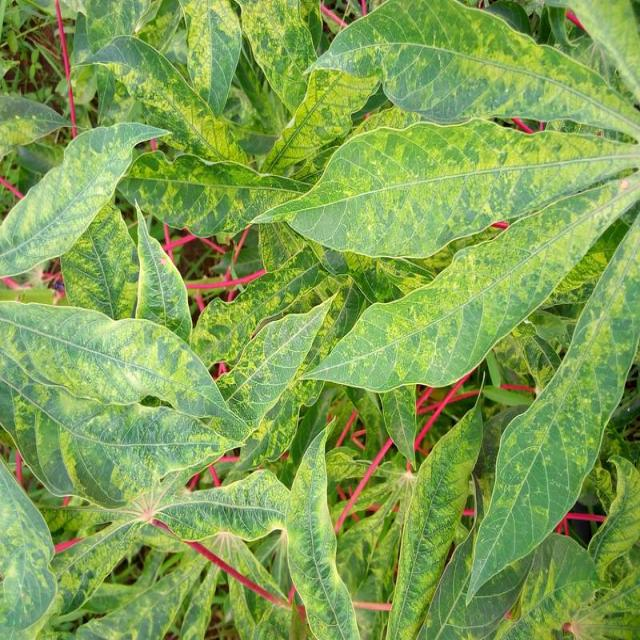cassava leaf: (1, 0, 638, 638), (0, 296, 250, 510)
